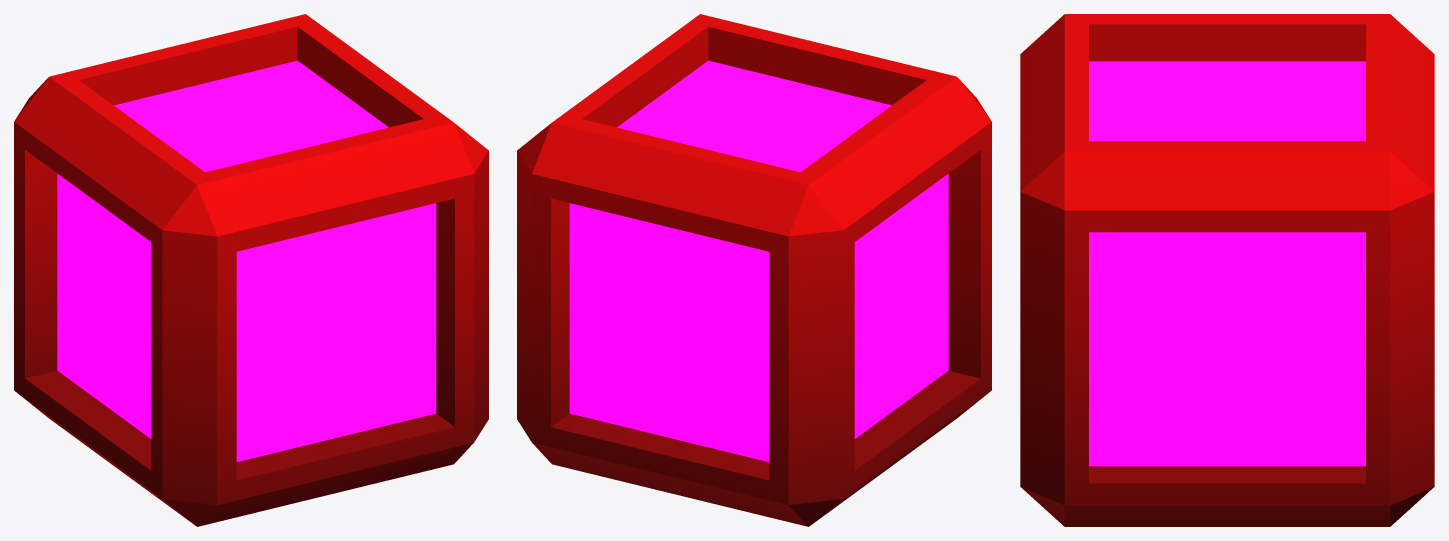
Rendered from item_007.fbx.
3 renders of one model, left to right at view 1: azimuth 30°, elevation 25°; view 2: azimuth 150°, elevation 25°; view 3: azimuth 270°, elevation 25°, orthographic. The views are drawn at different scales.
Parts seen in each view (by area): view 1: item.007; view 2: item.007; view 3: item.007.
Boxes of the visible parts, x1,y1,x2,y2 form: item.007: [14, 14, 488, 526]; item.007: [517, 14, 991, 526]; item.007: [1020, 14, 1434, 526].
Size of the model in its own units: 147 by 147 by 147.
